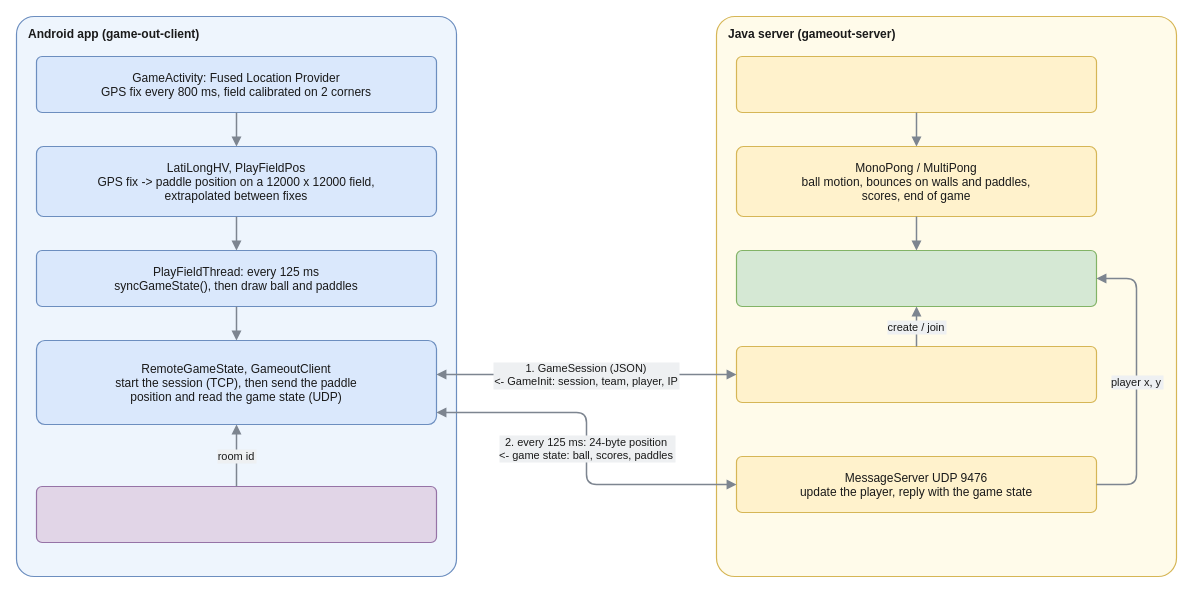
Image size: 1193x593. Some labels were removed from this diagram. The centre of each missing label's shape, as x and y in pixels:
gameStateList one GameState per session: ball, 3 teams, players: the point at 916,278
OnlineGameActivity: Google Play Games real-time room, invitations: the point at 236,514
SessionServer TCP 9475 create or join the session of a room: the point at 916,374
StreamServer thread: game loop every 20 ms: update() on each RUNNING game: the point at 916,84
